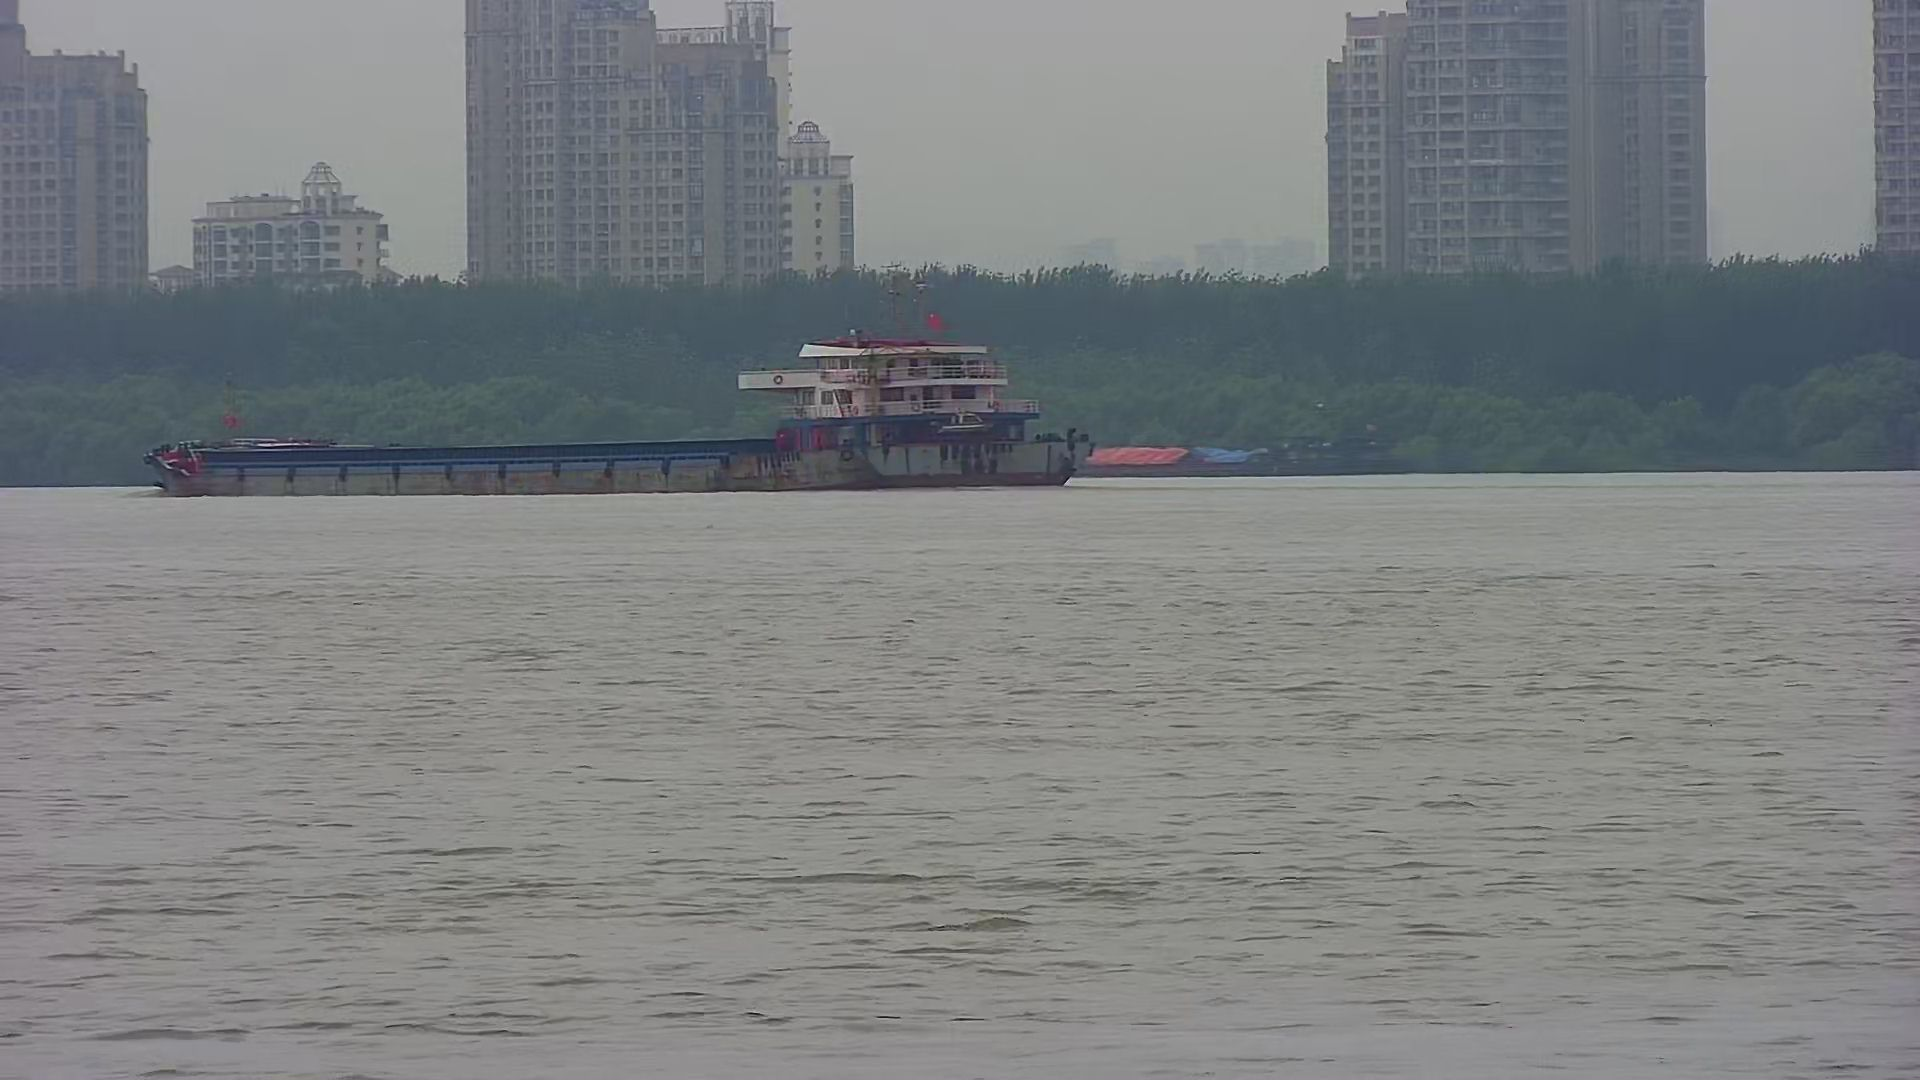ship: (137, 320, 1087, 496), (1083, 431, 1412, 477)
